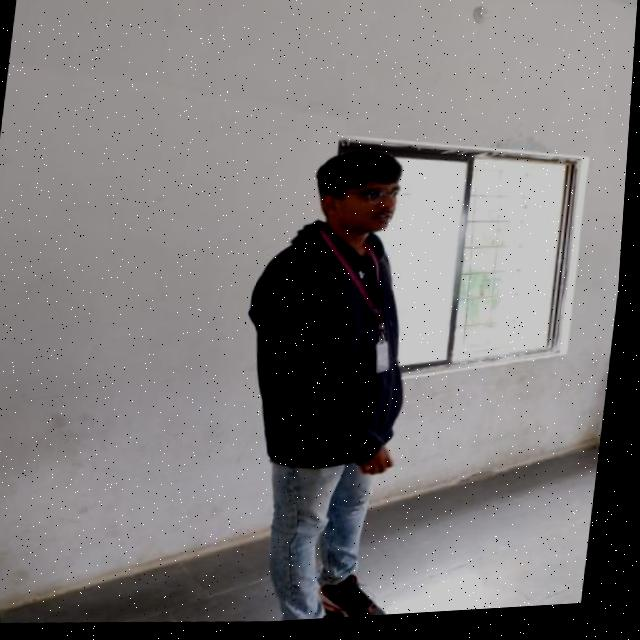id_card: (303, 213, 423, 397)
